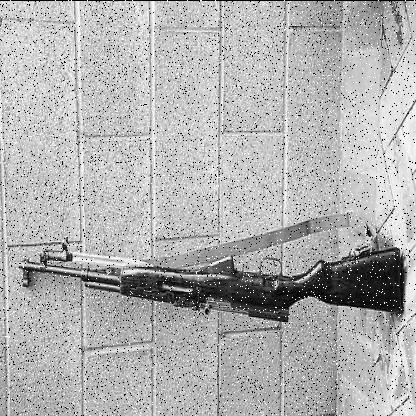rifle: (14, 216, 415, 349)
